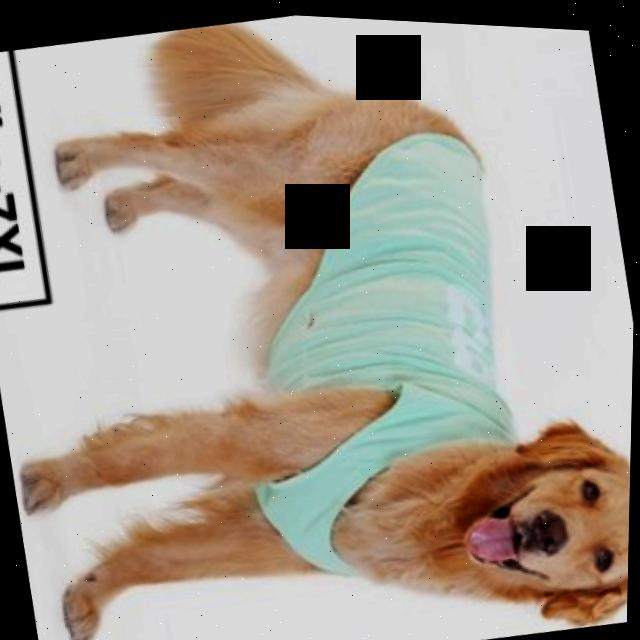cloth: (257, 129, 515, 571)
